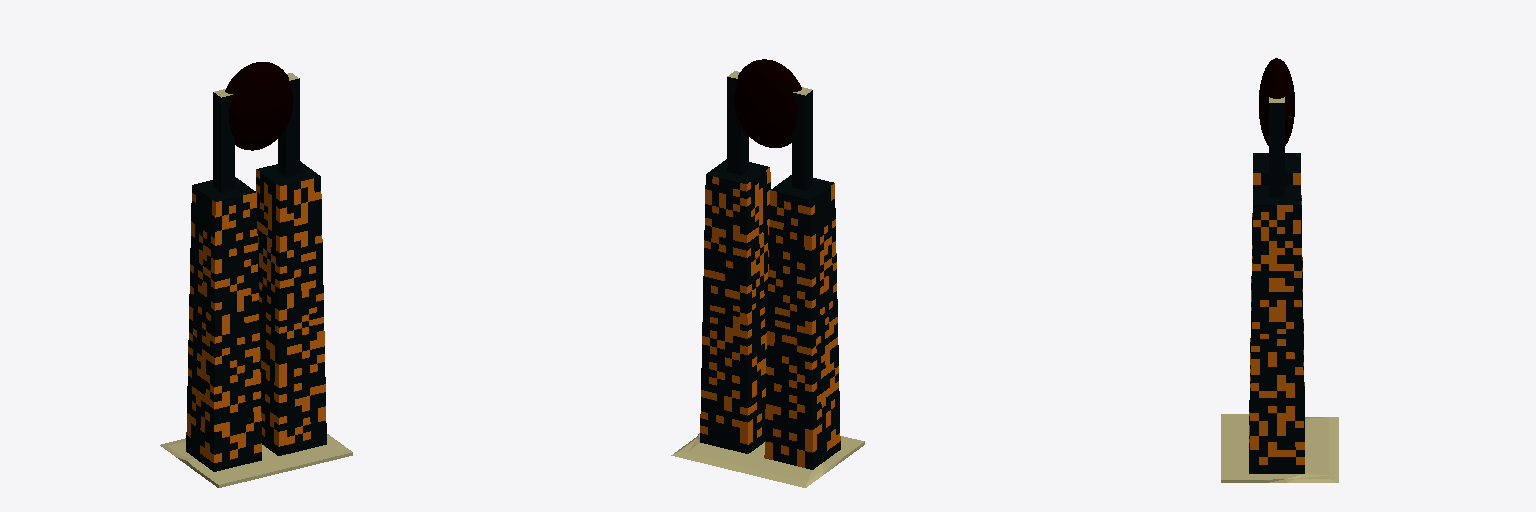
The model's file is skyscraper4.obj.
3 views of the same model, side by side, from view 1: azimuth 30°, elevation 25°; view 2: azimuth 150°, elevation 25°; view 3: azimuth 270°, elevation 25° (orthographic).
Parts seen in each view (by area): view 1: city; view 2: city; view 3: city.
Boxes of the visible parts, x1,y1,x2,y2 form: city: [160, 62, 352, 487]; city: [671, 59, 864, 487]; city: [1221, 58, 1338, 482].
Size of the model in its own units: 5.99 by 16.54 by 4.59.